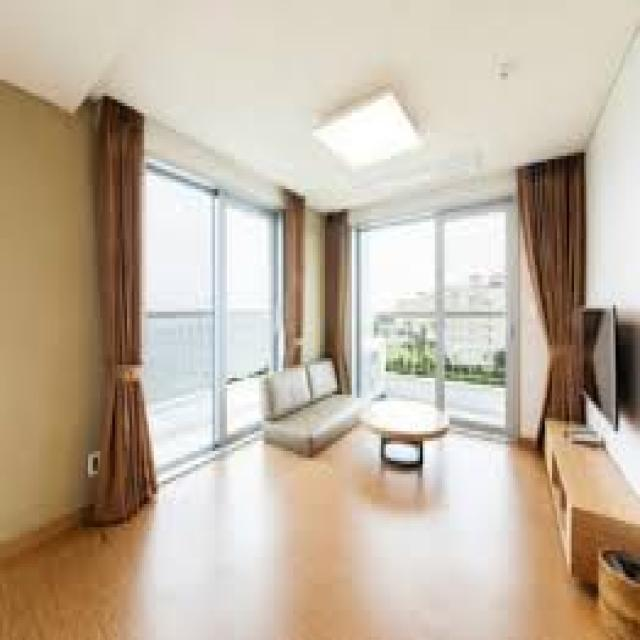Sofa: (257, 357, 361, 455)
Table: (361, 396, 452, 478)
tv: (570, 301, 624, 427)
window: (135, 147, 282, 440), (361, 233, 512, 409)
